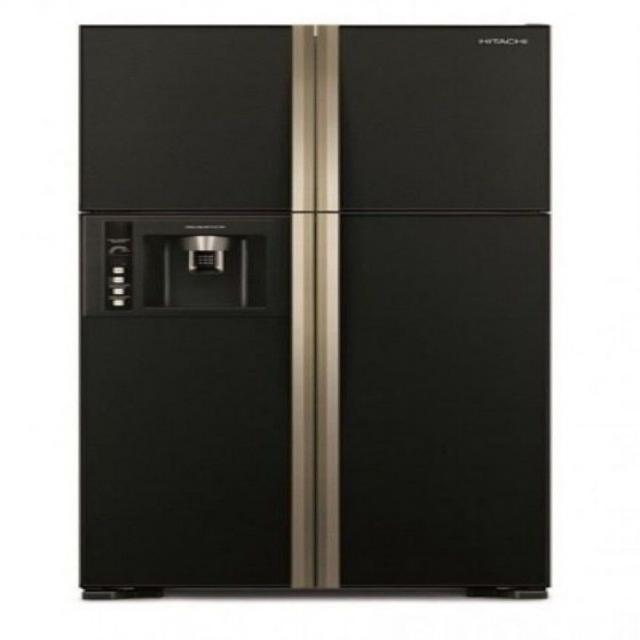refrigerator: (70, 21, 556, 603)
